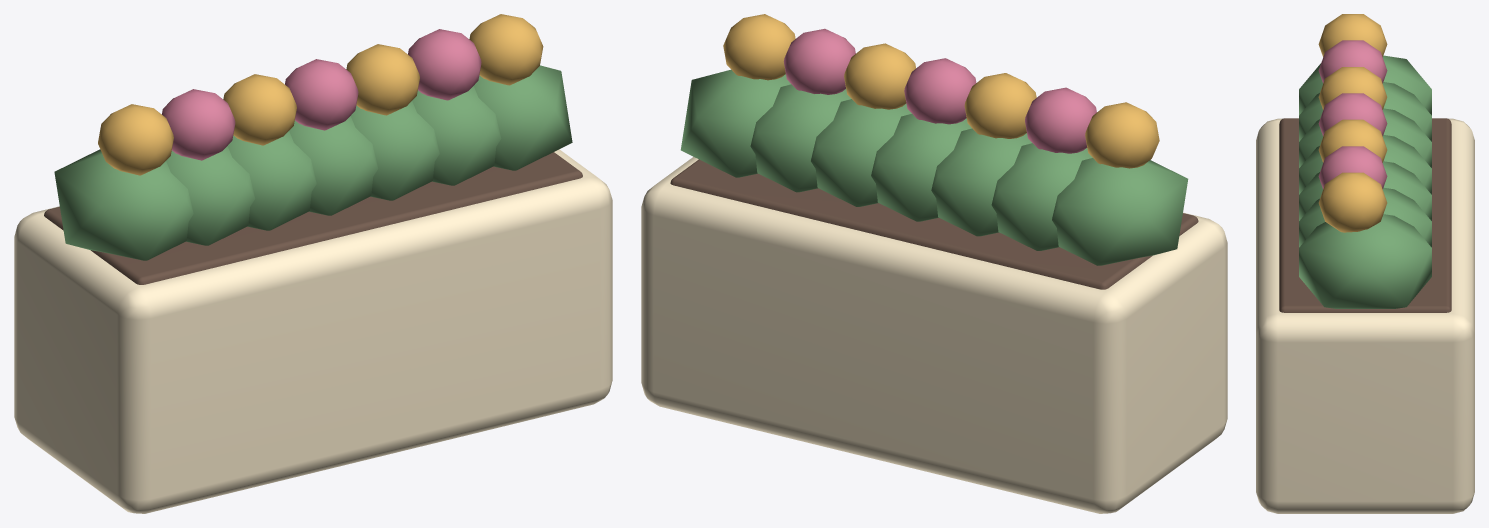
The model's file is Flower_planter.fbx.
3 views of the same model, side by side, from view 1: azimuth 30°, elevation 25°; view 2: azimuth 150°, elevation 25°; view 3: azimuth 270°, elevation 25° (orthographic). The views are drawn at different scales.
Visible parts, largest first — view 1: Town_Flower_planter Planter box.001, Town_Flower_planter Soil.001, Town_Flower_planter Leaf clump.007, Town_Flower_planter Leaf clump.013, Town_Flower_planter Leaf clump.011, Town_Flower_planter Leaf clump.008, Town_Flower_planter Leaf clump.009, Town_Flower_planter Leaf clump.010, Town_Flower_planter Leaf clump.012, Town_Flower_planter Flower head.007, Town_Flower_planter Flower head.011, Town_Flower_planter Flower head.013 (+4 smaller); view 2: Town_Flower_planter Planter box.001, Town_Flower_planter Soil.001, Town_Flower_planter Leaf clump.007, Town_Flower_planter Leaf clump.013, Town_Flower_planter Leaf clump.008, Town_Flower_planter Leaf clump.009, Town_Flower_planter Leaf clump.010, Town_Flower_planter Leaf clump.011, Town_Flower_planter Leaf clump.012, Town_Flower_planter Flower head.007, Town_Flower_planter Flower head.010, Town_Flower_planter Flower head.012 (+4 smaller); view 3: Town_Flower_planter Planter box.001, Town_Flower_planter Leaf clump.013, Town_Flower_planter Soil.001, Town_Flower_planter Flower head.013, Town_Flower_planter Leaf clump.007, Town_Flower_planter Leaf clump.012, Town_Flower_planter Leaf clump.009, Town_Flower_planter Leaf clump.008, Town_Flower_planter Leaf clump.010, Town_Flower_planter Leaf clump.011, Town_Flower_planter Flower head.011, Town_Flower_planter Flower head.012 (+4 smaller).
Boxes of the visible parts, bbox=[...] form: Town_Flower_planter Planter box.001: bbox=[14, 149, 612, 513]; Town_Flower_planter Soil.001: bbox=[44, 152, 582, 284]; Town_Flower_planter Leaf clump.007: bbox=[54, 149, 193, 260]; Town_Flower_planter Leaf clump.013: bbox=[474, 65, 572, 170]; Town_Flower_planter Leaf clump.011: bbox=[351, 101, 439, 200]; Town_Flower_planter Leaf clump.008: bbox=[166, 146, 255, 245]; Town_Flower_planter Leaf clump.009: bbox=[227, 131, 316, 230]; Town_Flower_planter Leaf clump.010: bbox=[289, 116, 378, 215]; Town_Flower_planter Leaf clump.012: bbox=[412, 86, 501, 185]; Town_Flower_planter Flower head.007: bbox=[98, 104, 173, 175]; Town_Flower_planter Flower head.011: bbox=[346, 44, 419, 115]; Town_Flower_planter Flower head.013: bbox=[469, 14, 543, 85]; Town_Flower_planter Planter box.001: bbox=[641, 157, 1227, 513]; Town_Flower_planter Soil.001: bbox=[670, 159, 1198, 289]; Town_Flower_planter Leaf clump.007: bbox=[1052, 158, 1188, 265]; Town_Flower_planter Leaf clump.013: bbox=[680, 69, 790, 177]; Town_Flower_planter Leaf clump.008: bbox=[991, 143, 1092, 250]; Town_Flower_planter Leaf clump.009: bbox=[931, 128, 1031, 236]; Town_Flower_planter Leaf clump.010: bbox=[871, 114, 971, 221]; Town_Flower_planter Leaf clump.011: bbox=[811, 99, 911, 206]; Town_Flower_planter Leaf clump.012: bbox=[750, 84, 851, 192]; Town_Flower_planter Flower head.007: bbox=[1085, 102, 1159, 168]; Town_Flower_planter Flower head.010: bbox=[904, 58, 976, 124]; Town_Flower_planter Flower head.012: bbox=[783, 28, 855, 94]; Town_Flower_planter Planter box.001: bbox=[1256, 118, 1474, 513]; Town_Flower_planter Leaf clump.013: bbox=[1299, 214, 1431, 308]; Town_Flower_planter Soil.001: bbox=[1279, 118, 1451, 312]; Town_Flower_planter Flower head.013: bbox=[1318, 172, 1387, 232]; Town_Flower_planter Leaf clump.007: bbox=[1299, 55, 1431, 115]; Town_Flower_planter Leaf clump.012: bbox=[1299, 187, 1431, 247]; Town_Flower_planter Leaf clump.009: bbox=[1299, 108, 1431, 167]; Town_Flower_planter Leaf clump.008: bbox=[1299, 82, 1431, 141]; Town_Flower_planter Leaf clump.010: bbox=[1299, 135, 1431, 194]; Town_Flower_planter Leaf clump.011: bbox=[1299, 161, 1431, 220]; Town_Flower_planter Flower head.011: bbox=[1318, 119, 1387, 162]; Town_Flower_planter Flower head.012: bbox=[1318, 146, 1387, 189].
Size of the model in its own units: 161 by 113 by 70.
